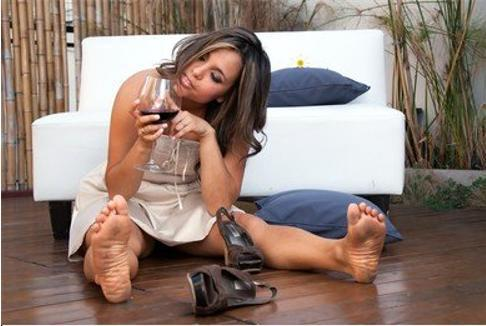Drunk: (177, 47, 239, 102)
